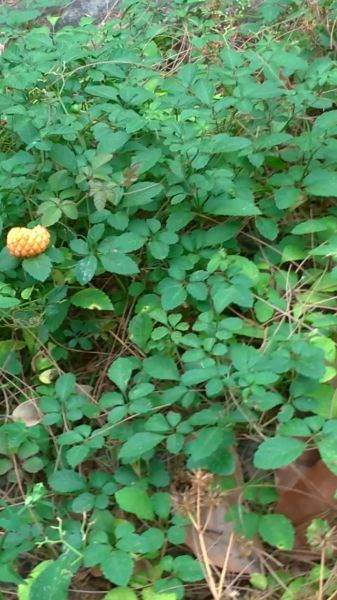eggs: (5, 219, 53, 264)
